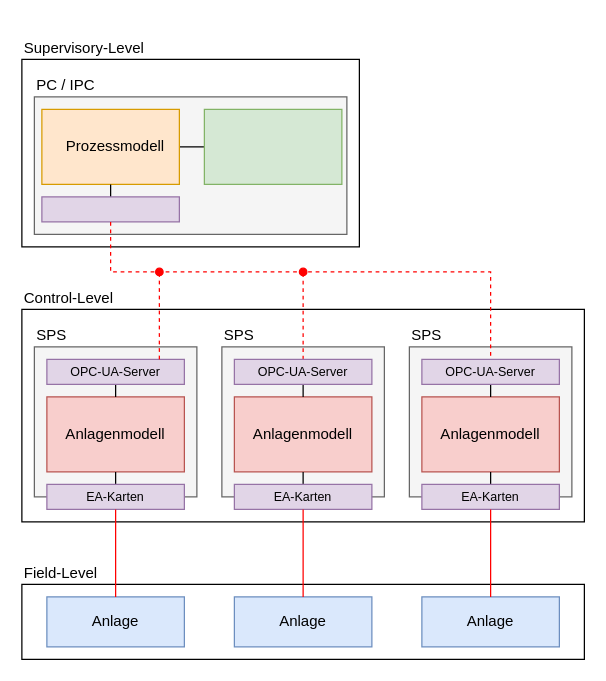
This 606x681 diagram has some shape labels left out. The shapes that lost their labels are listed below. From the top down, each one's centre as x and y in pixels, then its label:
pixel 272 146: HMI (Gesamtsystem)
pixel 110 209: OPC-UA-Client
